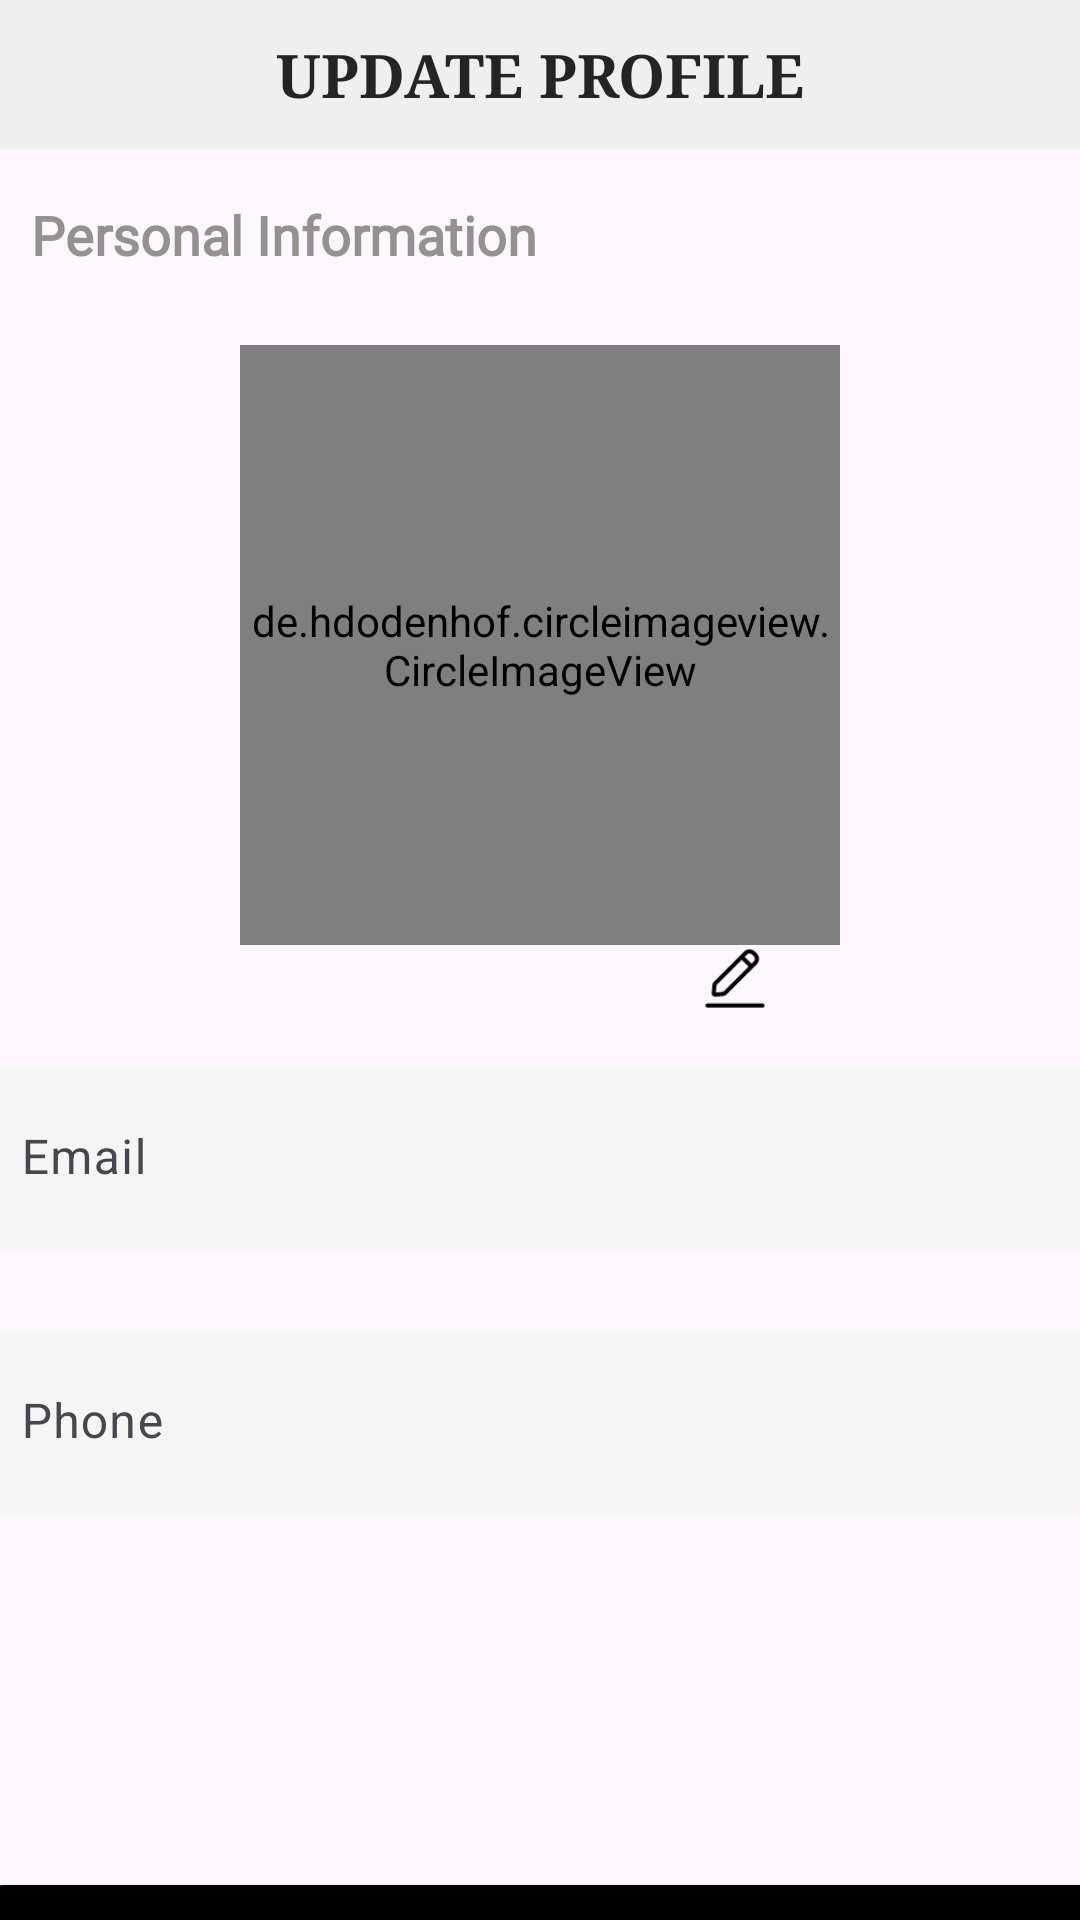

Where icons sit on this 1080w x 1920h app screen, as (x1, y1, x2, y2):
edit: (705, 949, 765, 1008)
